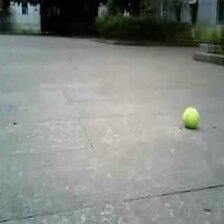tennis: (183, 107, 199, 128)
